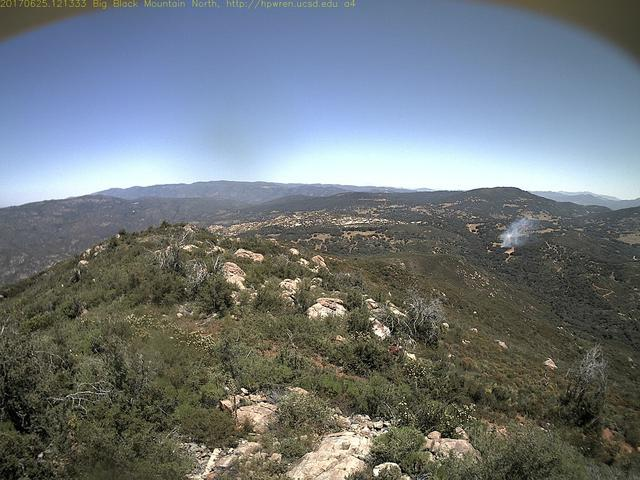smoke: (493, 209, 539, 252)
